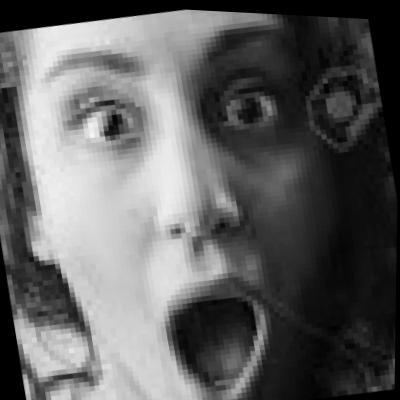surprise: (10, 1, 379, 400)
